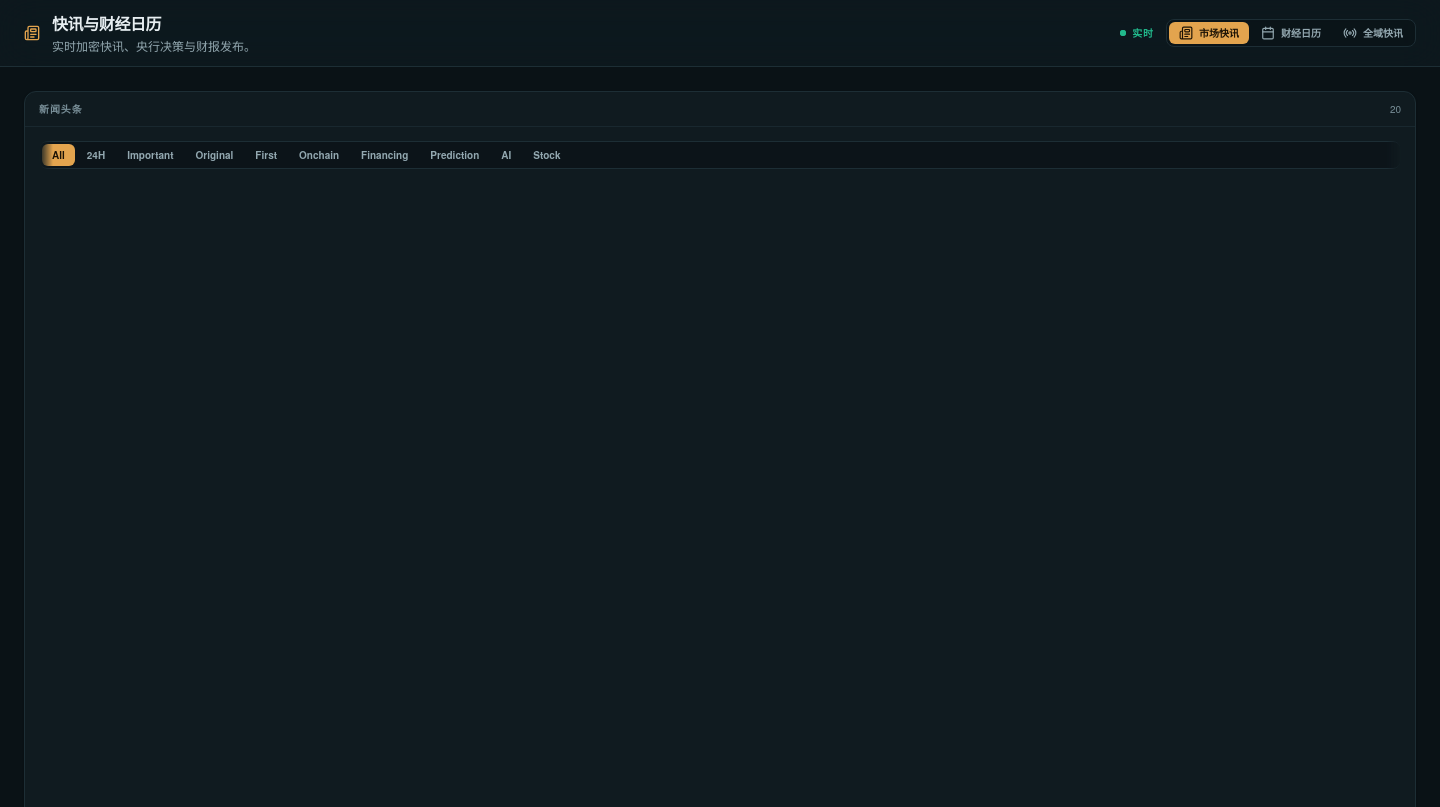
Test case: NewsCalendarView infinite scroll › switches to the global news feed segment and back
Click the button "全域快讯" at (1373, 33), box x1=1333 y1=22 x2=1413 y2=44
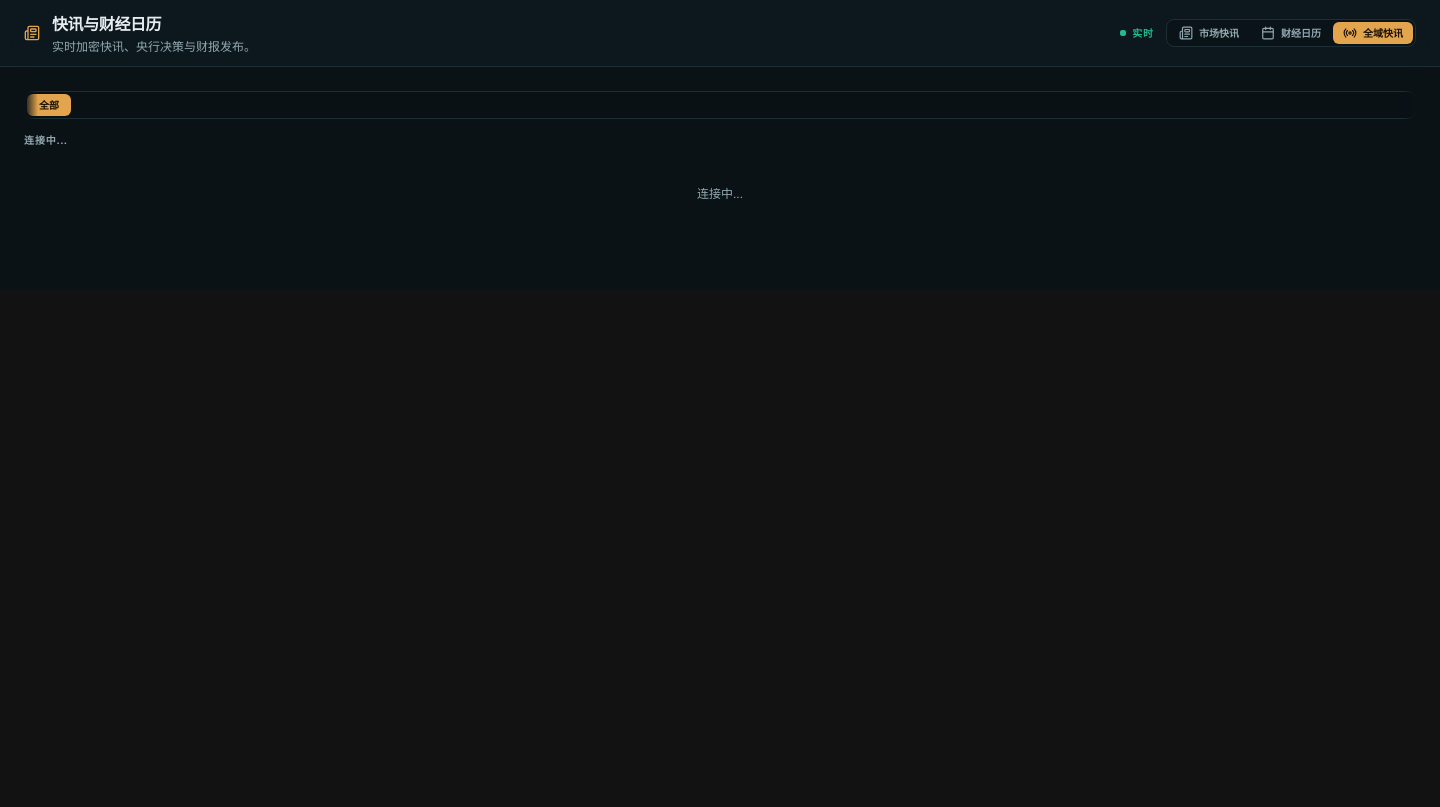
Check: the text "news-0" is not shown
Check: the element with test id "global-news-feed" is shown, box x1=24 y1=91 x2=1416 y2=265
// Back to Market News Wire: the BlockBeats flow is untouched.
Click the button "市场快讯" at (1209, 33), box x1=1169 y1=22 x2=1249 y2=44
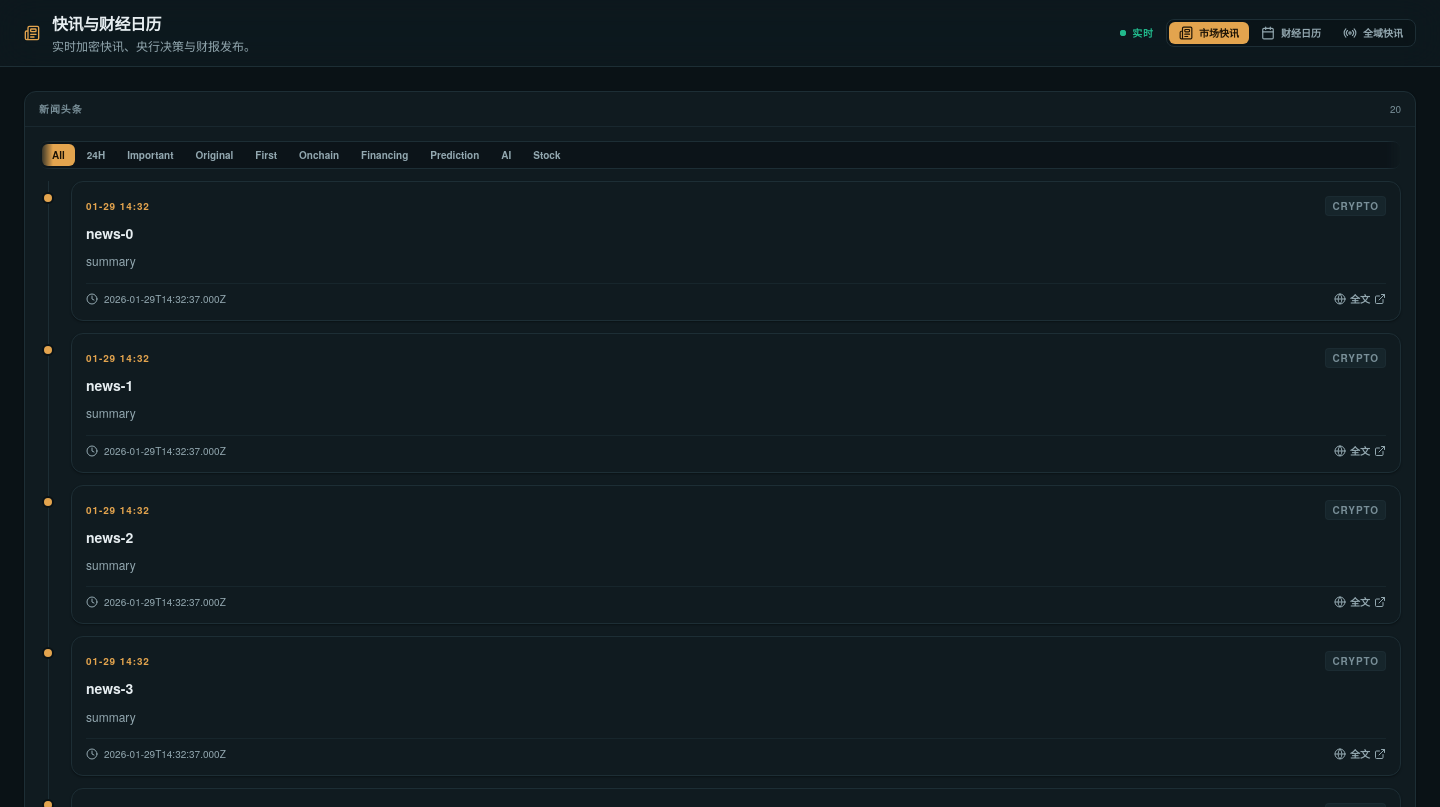
Check: the heading "news-0" is shown, box x1=86 y1=223 x2=133 y2=243
